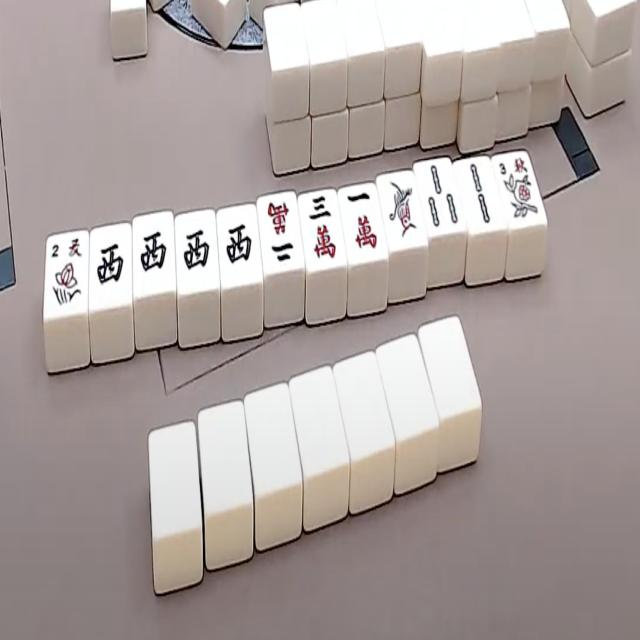ff2: (48, 236, 88, 313)
ff3: (499, 151, 541, 227)
m1: (340, 184, 383, 256)
m2: (260, 195, 303, 270)
m3: (300, 190, 344, 266)
s1: (381, 176, 422, 244)
s2: (461, 158, 500, 229)
s3: (419, 160, 460, 232)
west: (179, 215, 219, 280), (136, 218, 176, 282), (221, 209, 261, 273), (92, 229, 131, 294)
